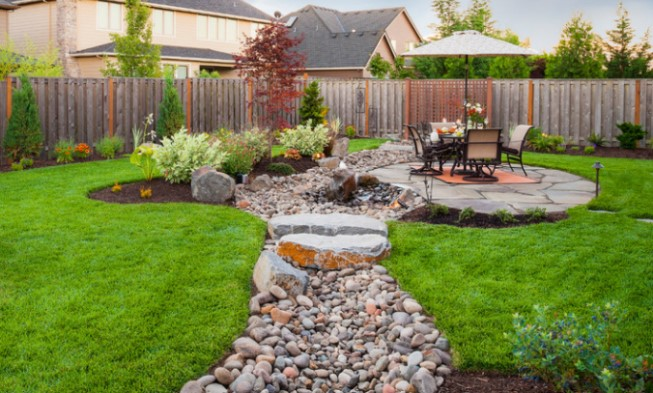dirt: (439, 367, 649, 392), (89, 173, 190, 201)
grass: (0, 203, 262, 388), (385, 211, 650, 364), (3, 153, 158, 203), (593, 155, 652, 211)
rock: (188, 209, 447, 391), (238, 165, 406, 208), (192, 168, 237, 200)
